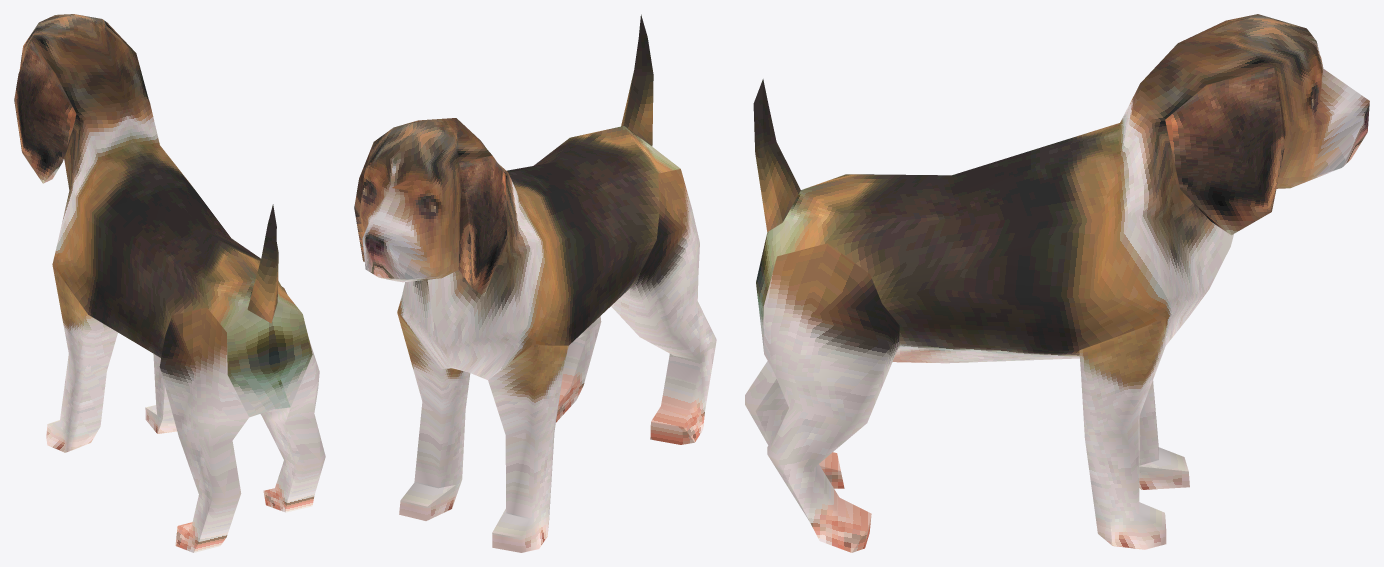
Rendered from ps2_save-icons_dogstation-dogdata.glb.
3 renders of one model, left to right at view 1: azimuth 30°, elevation 25°; view 2: azimuth 150°, elevation 25°; view 3: azimuth 270°, elevation 25°, orthographic. The views are drawn at different scales.
Parts seen in each view (by area): view 1: dog.ico; view 2: dog.ico; view 3: dog.ico.
Part boxes in pixels (bbox=[...]): dog.ico: bbox=[14, 14, 325, 552]; dog.ico: bbox=[354, 14, 716, 552]; dog.ico: bbox=[745, 14, 1369, 552].
Size of the model in its own units: 1.59 by 4.21 by 4.85.
Materials: 1 (1 with a texture image).
